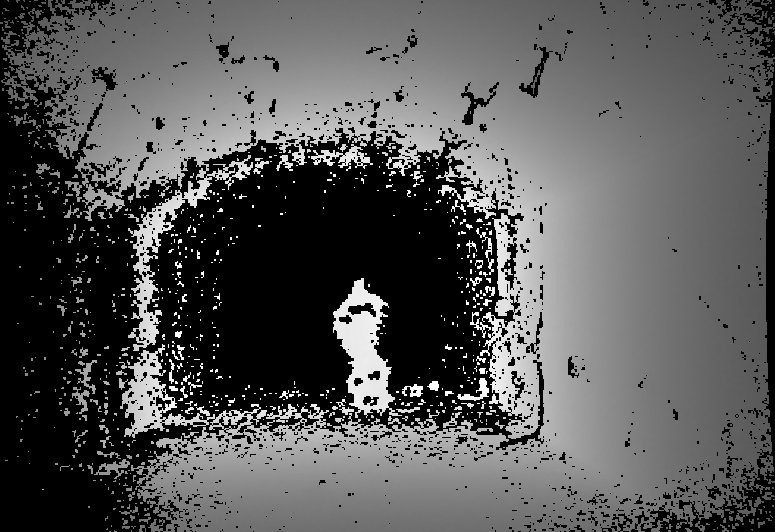person: (331, 275, 393, 409)
